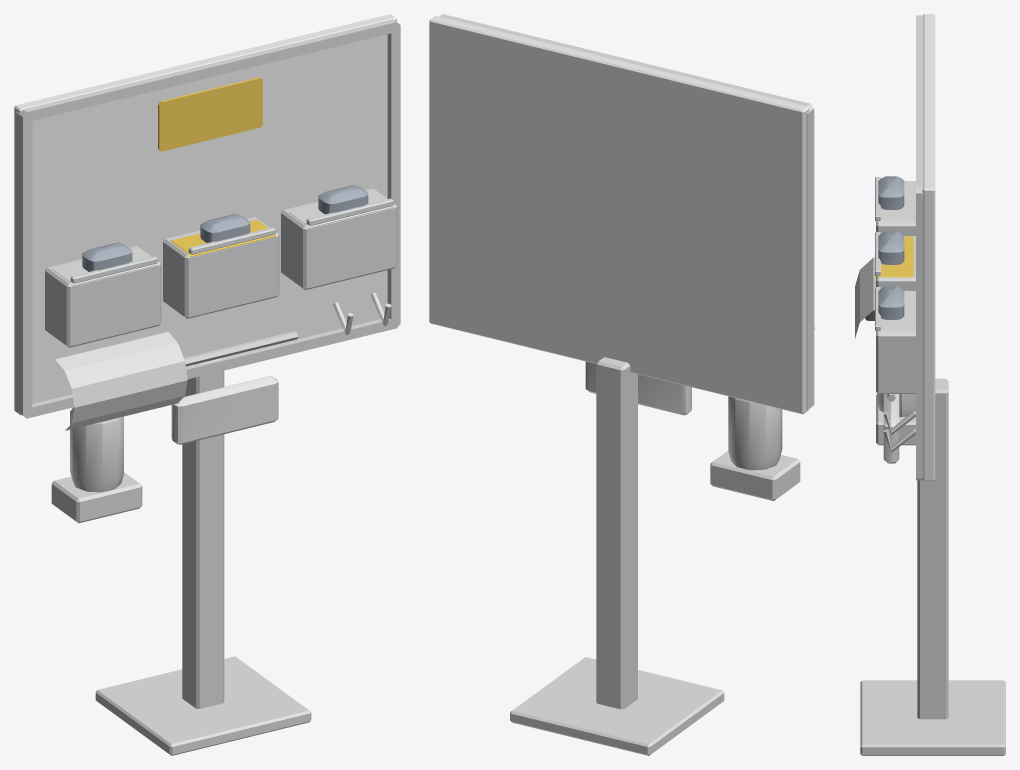
File: laundrette-and-cleaning-ppe-dispenser-wall-bb731b55__25577.glb
3 views of the same model, side by side, from view 1: azimuth 30°, elevation 25°; view 2: azimuth 150°, elevation 25°; view 3: azimuth 270°, elevation 25° (orthographic). The views are drawn at different scales.
Parts seen in each view (by area): view 1: ppe-dispenser-wall; view 2: ppe-dispenser-wall; view 3: ppe-dispenser-wall.
Part boxes in pixels (left/top/right/bottom): ppe-dispenser-wall: left=14, top=14, right=400, bottom=755; ppe-dispenser-wall: left=429, top=14, right=816, bottom=755; ppe-dispenser-wall: left=855, top=14, right=1005, bottom=755.
Bounding box in the file's own units: 0.8012 × 1.32 × 0.29.
